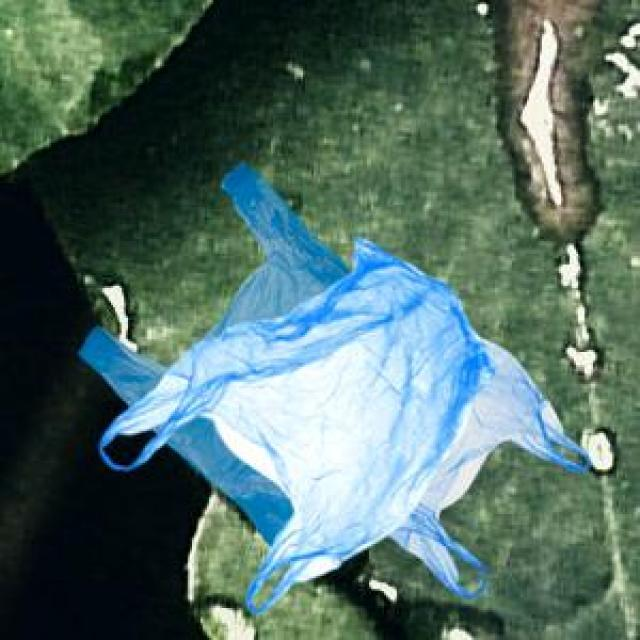Plastic_Bag: (97, 233, 492, 610), (76, 161, 347, 543), (385, 336, 588, 594)
